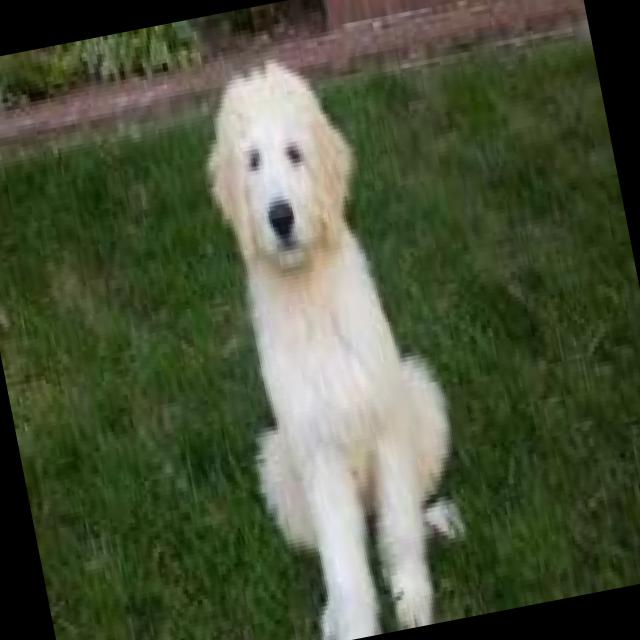Perro: (170, 26, 490, 640)
